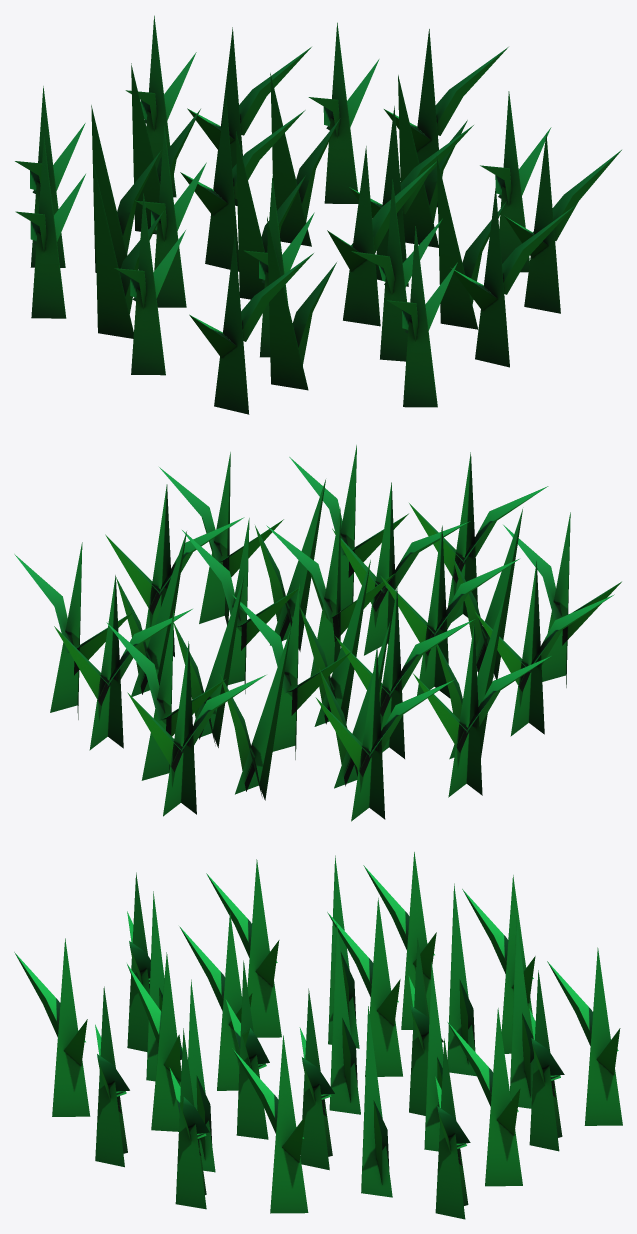
Rendered from Sce_worldmap_wheat_01.FBX.
3 renders of one model, top to bottom at view 1: azimuth 30°, elevation 25°; view 2: azimuth 150°, elevation 25°; view 3: azimuth 270°, elevation 25°, orthographic. The views are drawn at different scales.
Parts seen in each view (by area): view 1: Sce_worldmap_wheat_01; view 2: Sce_worldmap_wheat_01; view 3: Sce_worldmap_wheat_01.
Boxes of the visible parts, x1,y1,x2,y2 form: Sce_worldmap_wheat_01: (15,15,621,414); Sce_worldmap_wheat_01: (14,445,621,821); Sce_worldmap_wheat_01: (14,852,622,1219).
Size of the model in its own units: 59.43 by 19.33 by 61.83.
